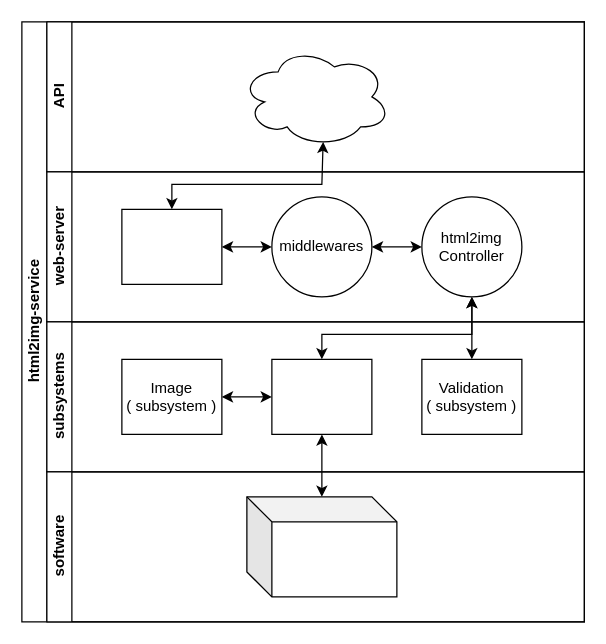
The diagram is 606 pixels wide and 644 high, and some of its shapes have lost their labels. Each missing label, with the centre of its shape:
"Browser ( subsystem )" goes at pixel 321 396.
"Chromium ( web-browser )" goes at pixel 321 546.
"Server ( subsystem )" goes at pixel 171 246.
"XHR" goes at pixel 315 96.
